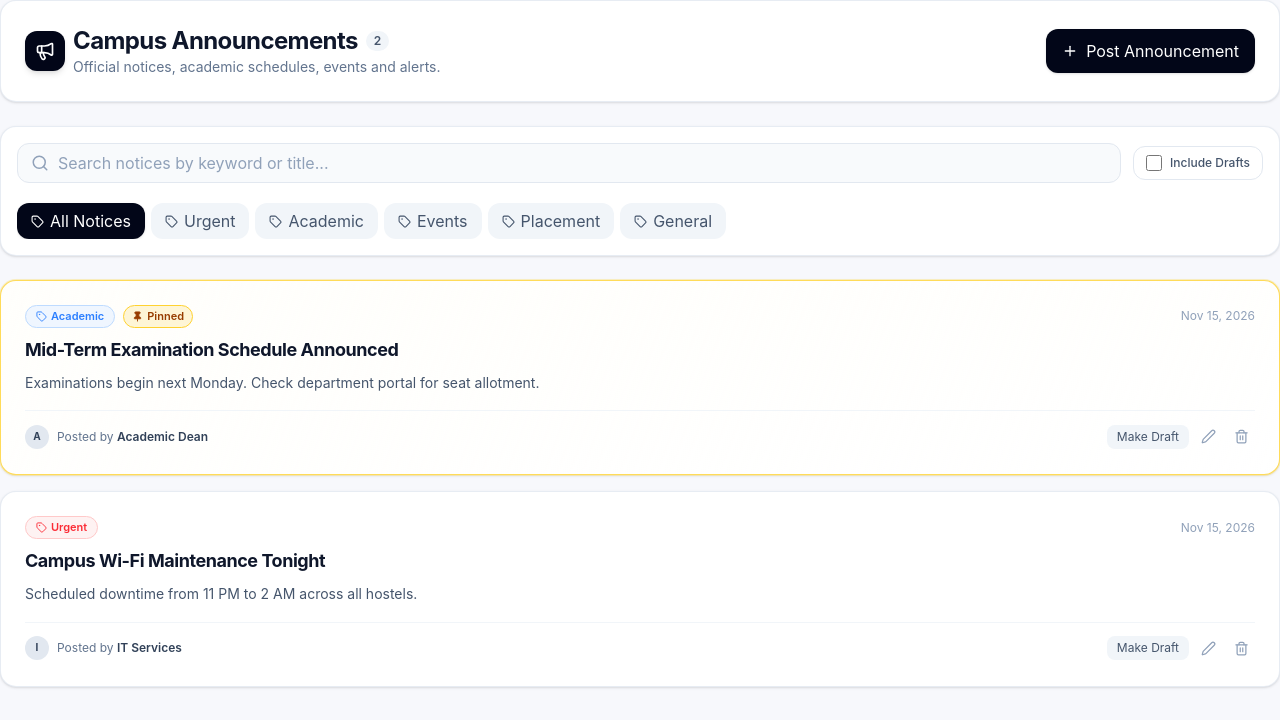
Test: Announcements Page › opens create modal and submits new announcement as admin
Later steps or results of the test are not shown.
What coordinates should you click on to do the following:
click the button "Post Announcement"
I would click on:
 (1151, 51)
Its box is [1046,29,1255,73].
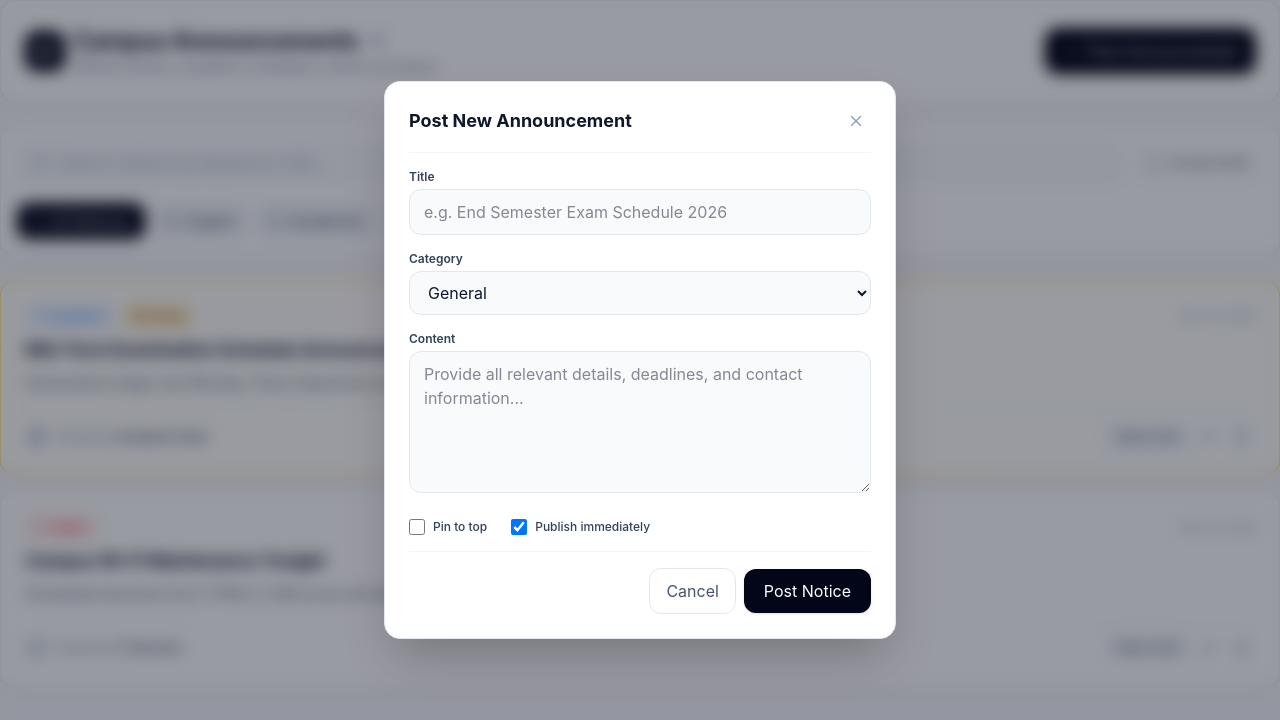
Now the heading "Post New Announcement" is shown, box [409,107,632,135]
